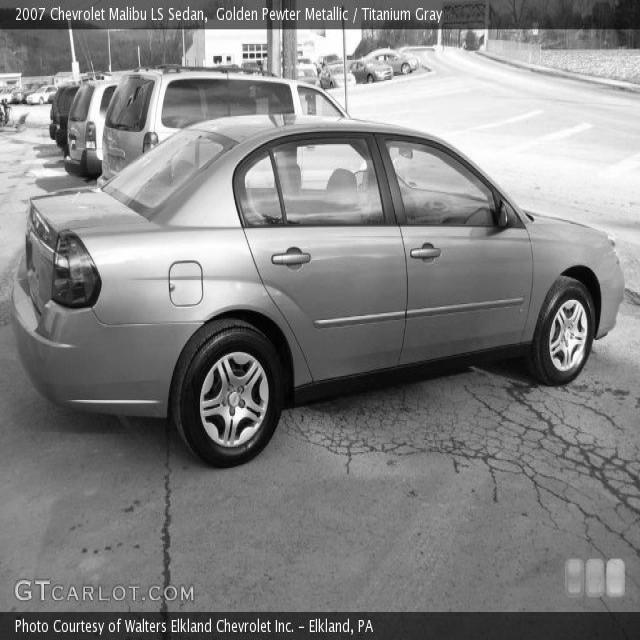car: (10, 112, 625, 468)
